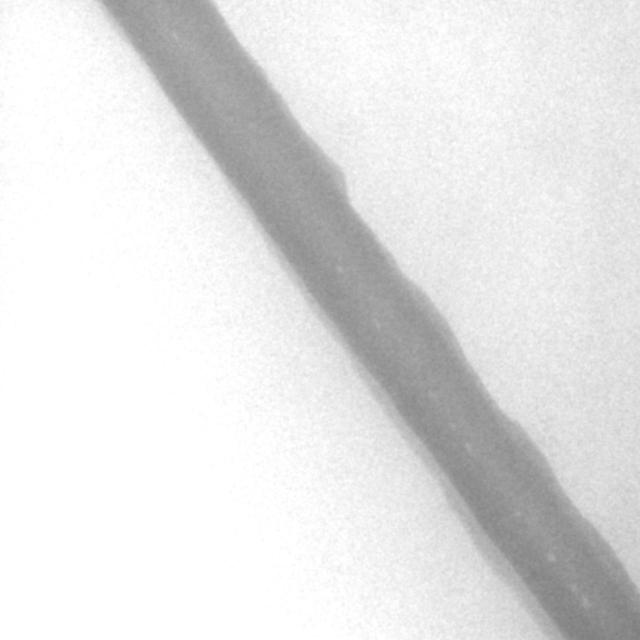air hole: (332, 260, 344, 276), (544, 549, 556, 564)
